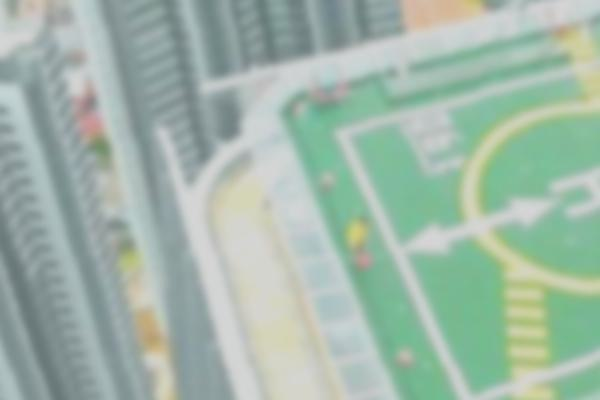Apron: (456, 96, 600, 300)
